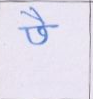e_matra: (21, 7, 48, 25)
